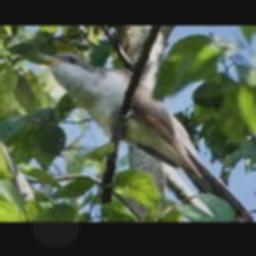Cuckoo: (36, 51, 255, 222)
